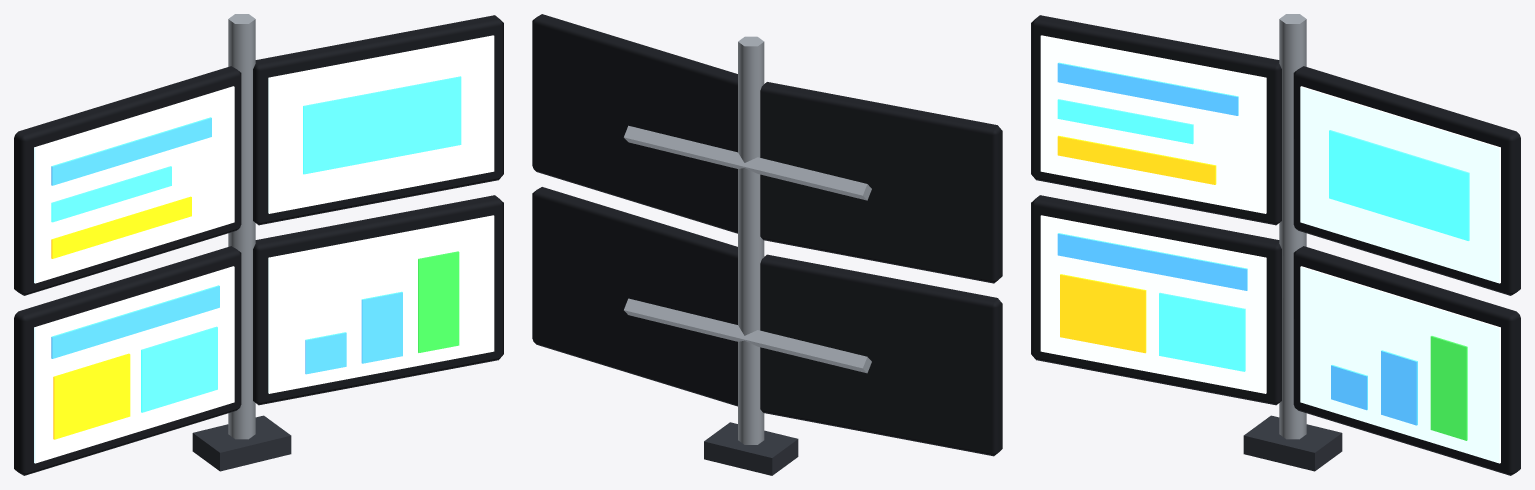
Rendered from station_intake_ausstattung_1_2.glb.
3 renders of one model, left to right at view 1: azimuth 30°, elevation 25°; view 2: azimuth 150°, elevation 25°; view 3: azimuth 330°, elevation 25°, orthographic. The views are drawn at different scales.
Visible parts, largest first — view 1: station_intake_ausstattung_1_2; view 2: station_intake_ausstattung_1_2; view 3: station_intake_ausstattung_1_2.
Part boxes in pixels (x1,y1,x2,y2): station_intake_ausstattung_1_2: [14, 14, 503, 475]; station_intake_ausstattung_1_2: [532, 14, 1002, 475]; station_intake_ausstattung_1_2: [1031, 14, 1520, 475].
Bounding box in the file's own units: 0.8193 × 0.699 × 0.1067.
